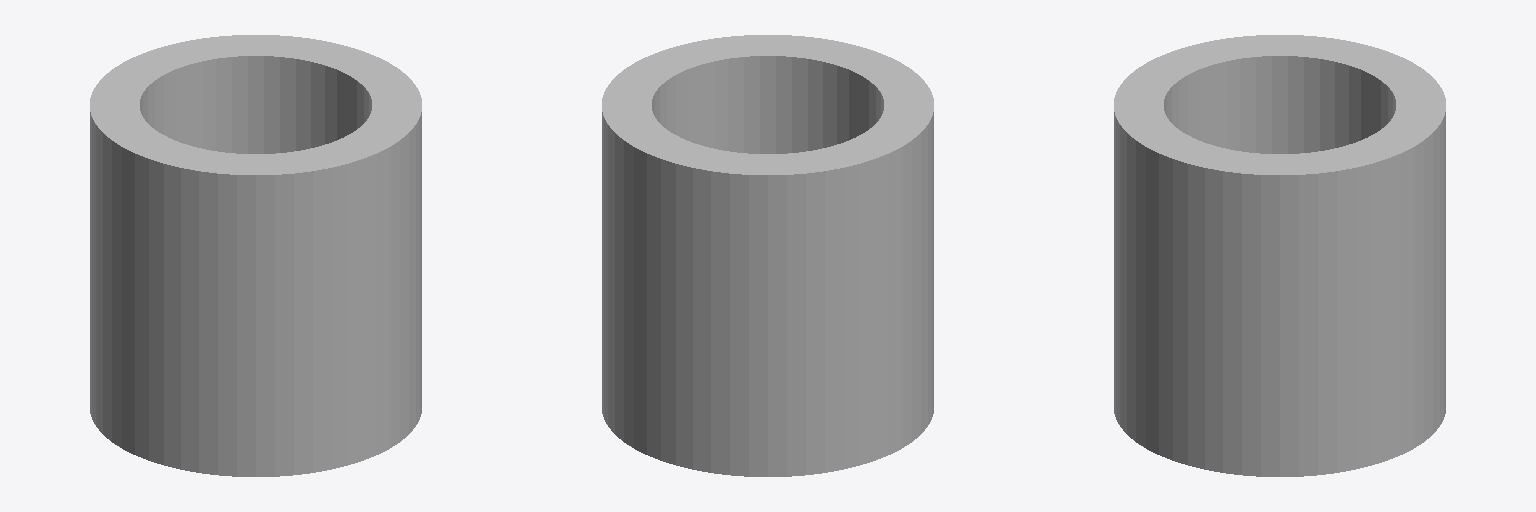
File: BiggerWalls.obj
3 views of the same model, side by side, from view 1: azimuth 30°, elevation 25°; view 2: azimuth 150°, elevation 25°; view 3: azimuth 270°, elevation 25° (orthographic).
Parts seen in each view (by area): view 1: Solid1; view 2: Solid1; view 3: Solid1.
Boxes of the visible parts, box(x1,y1,x2,y2) form: Solid1: box(90, 35, 421, 476); Solid1: box(602, 35, 933, 476); Solid1: box(1114, 35, 1445, 476).
Size of the model in its own units: 10 by 10 by 9.98.